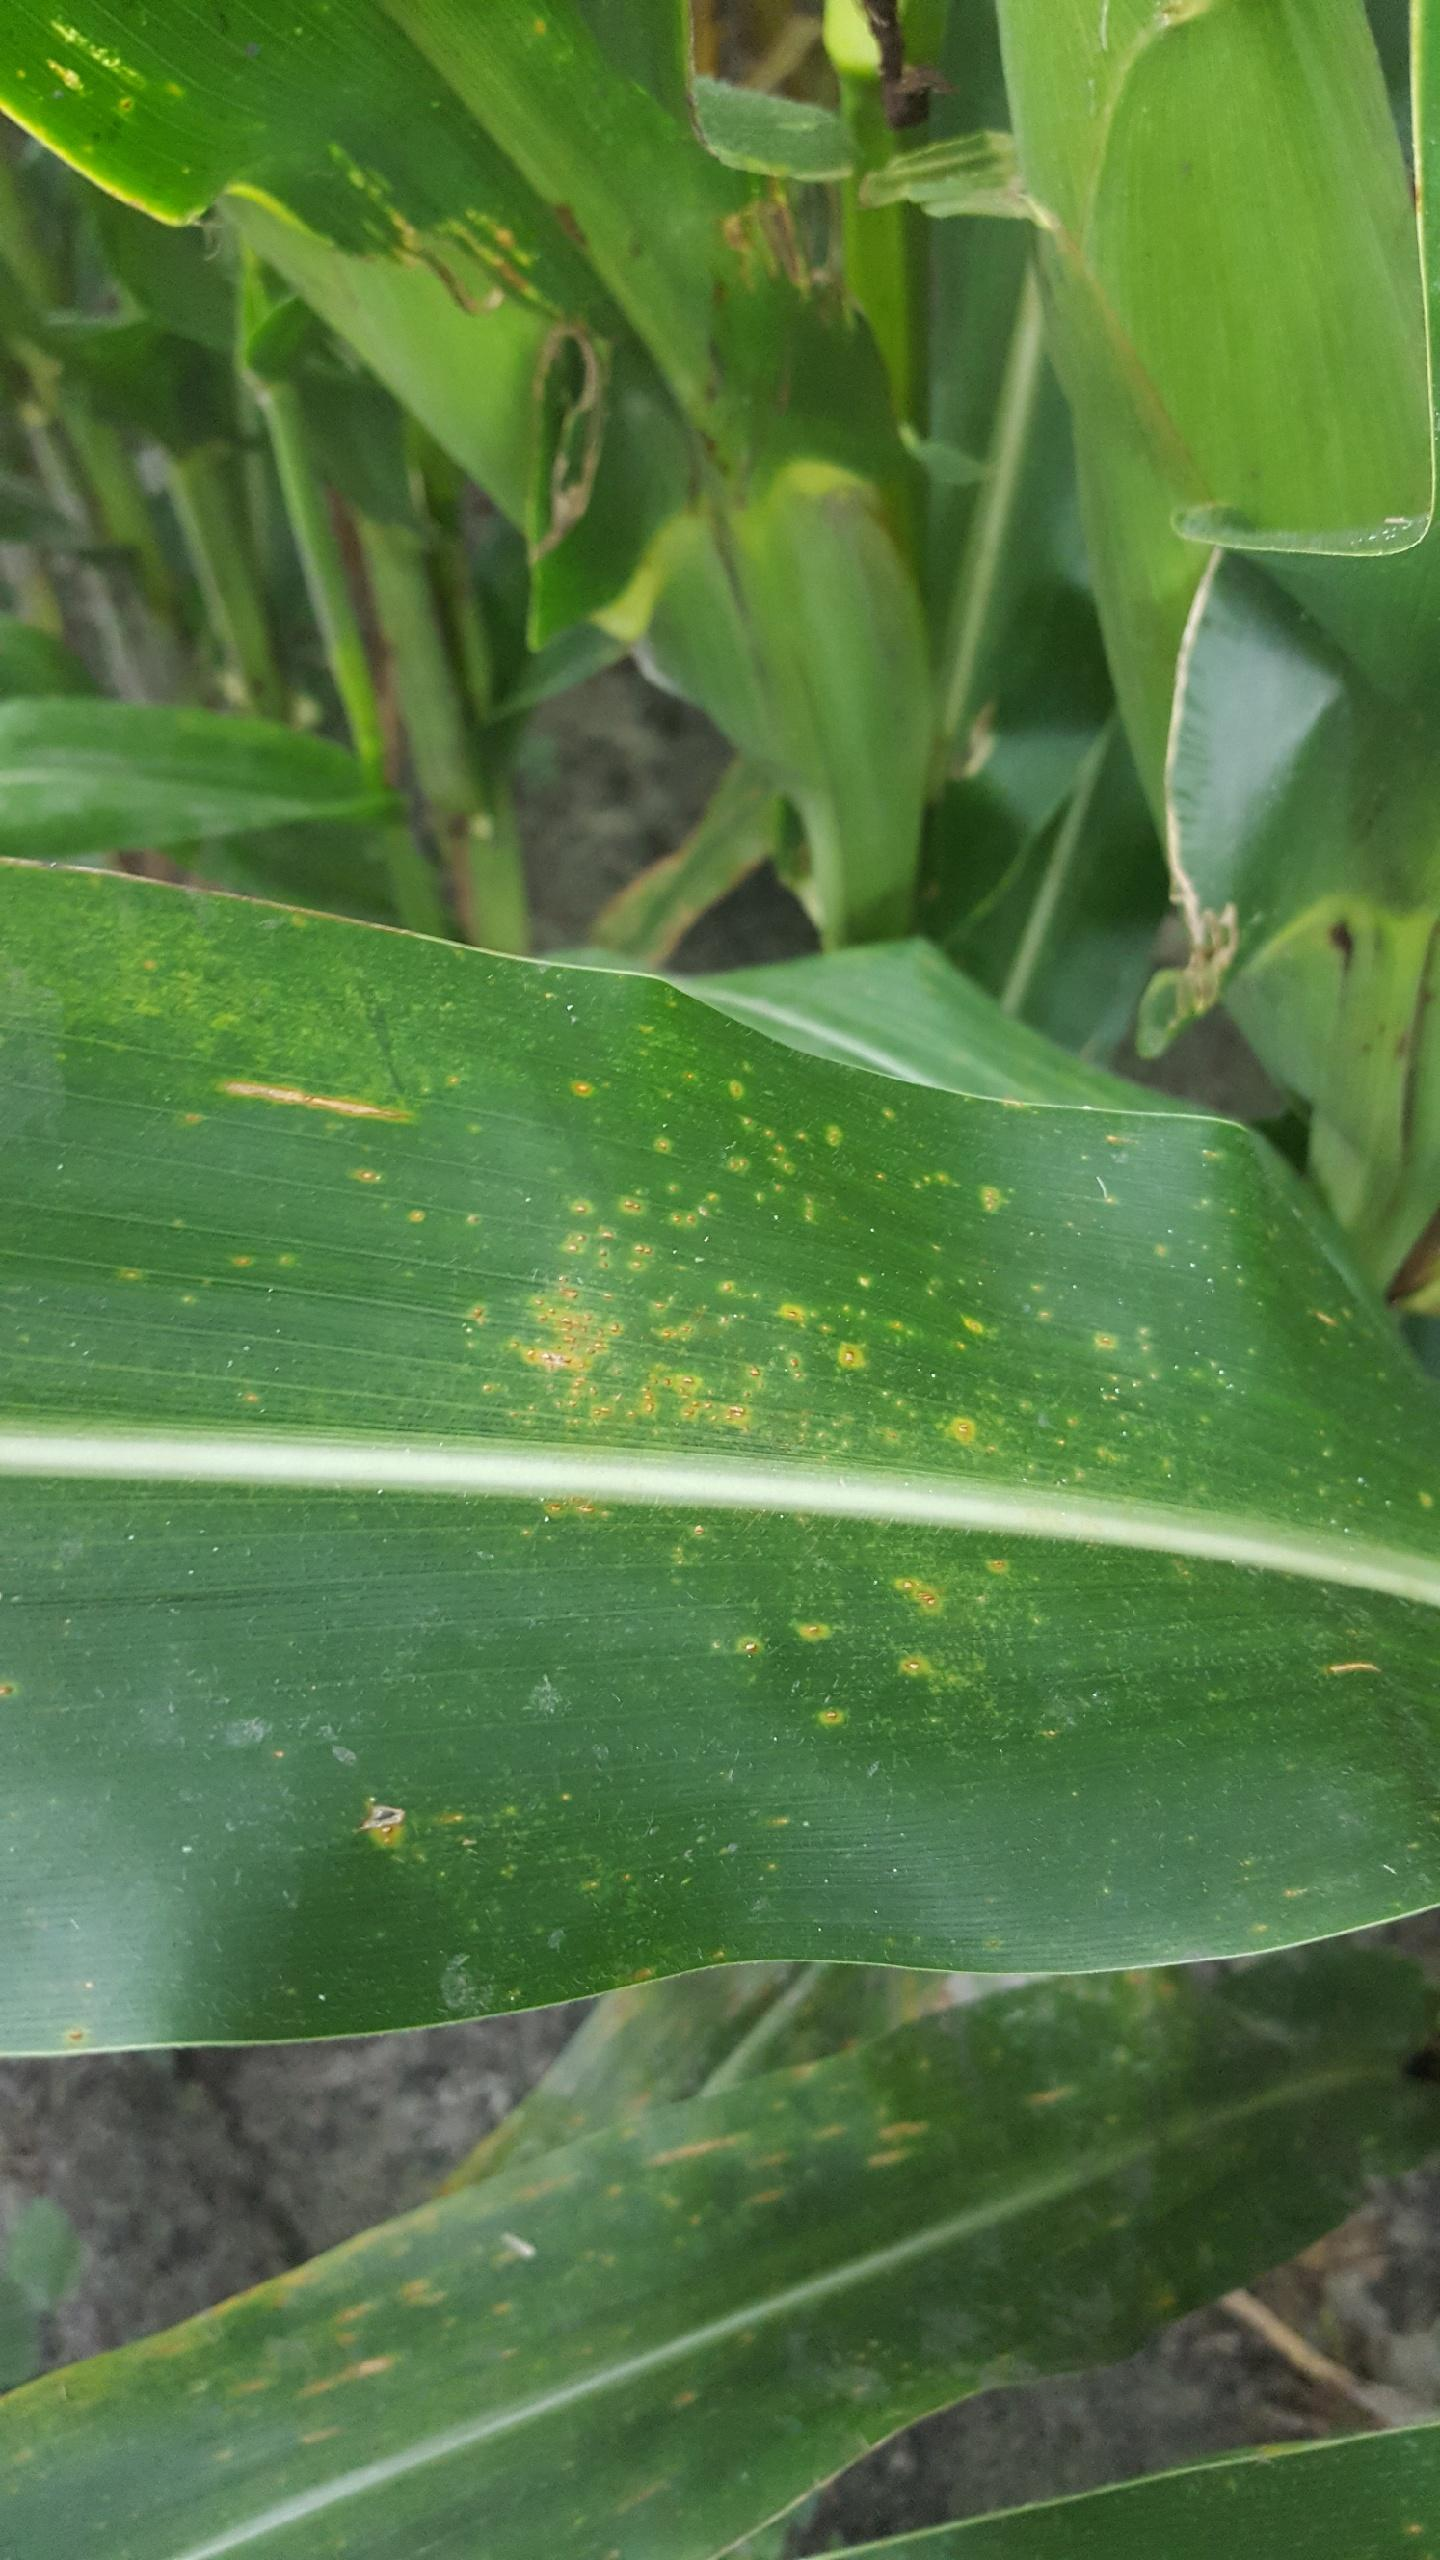Corn rust leaf: (2, 833, 1440, 2084)
